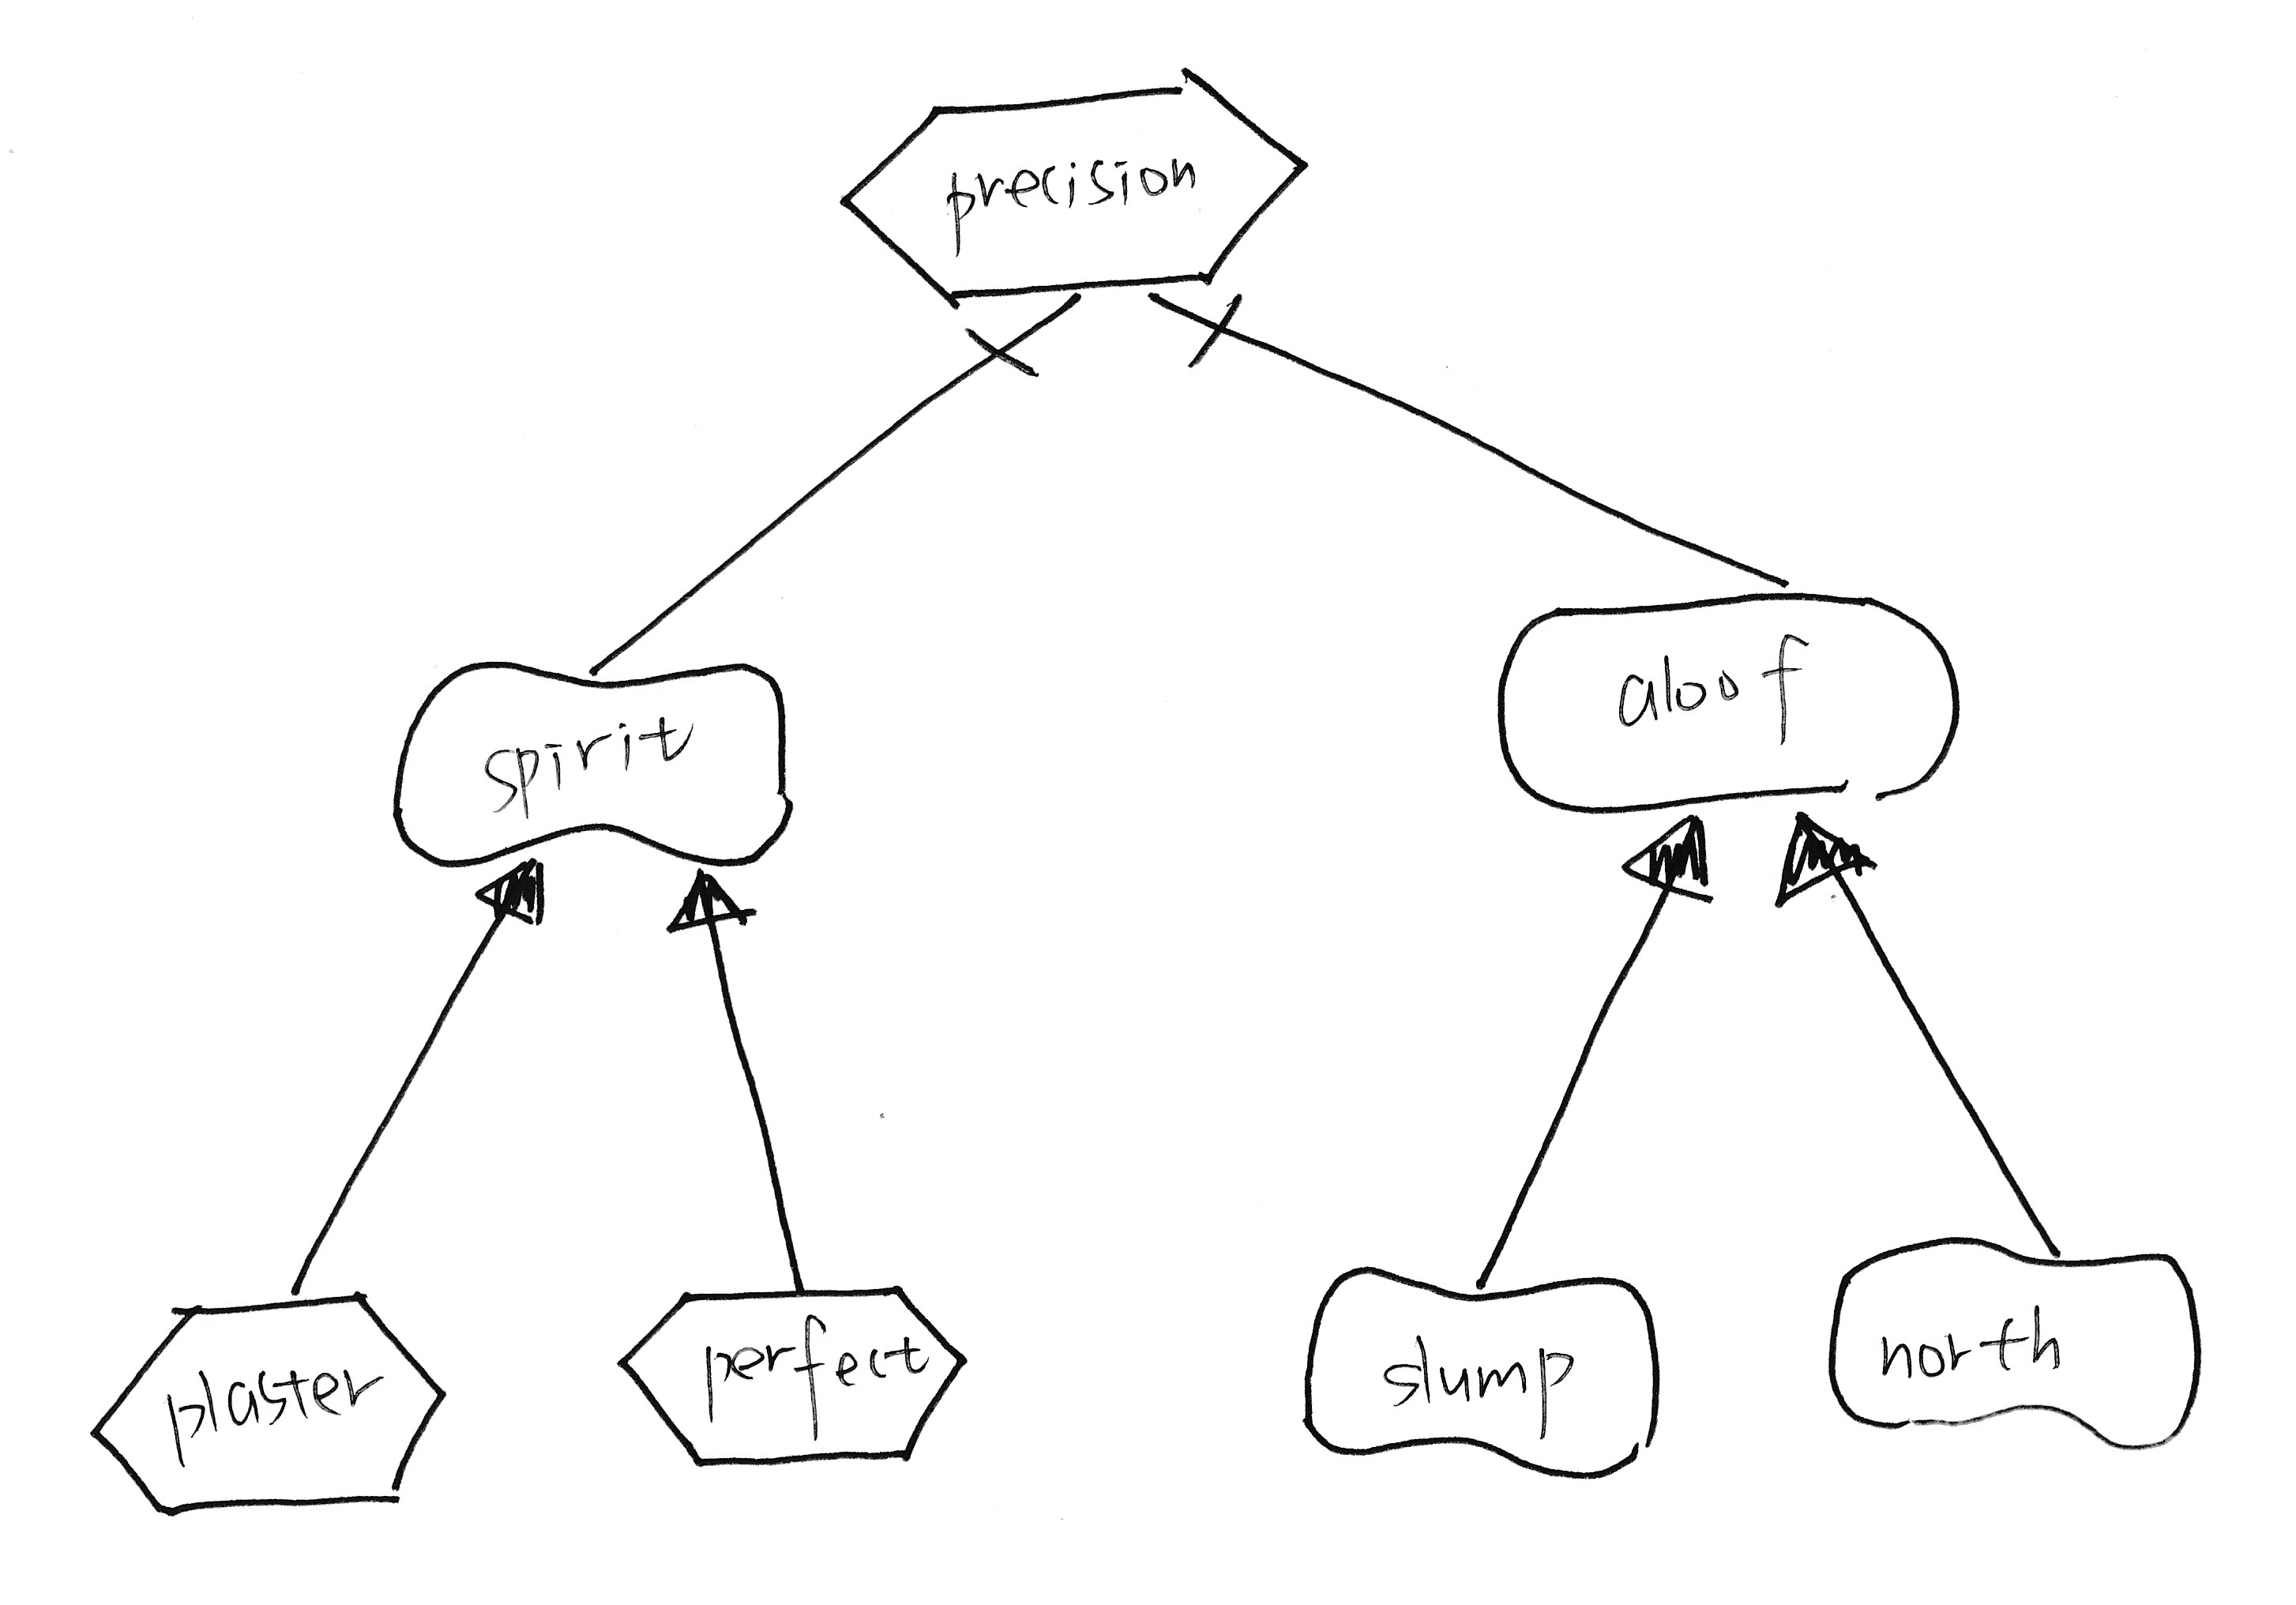and: (951, 276, 1096, 391), (1127, 276, 1254, 373)
goal: (1473, 572, 1992, 841)
or: (1762, 799, 1888, 919), (1609, 799, 1732, 911), (651, 853, 773, 949), (466, 846, 565, 942)
quality: (372, 644, 818, 890), (1284, 1240, 1687, 1499), (1811, 1219, 2219, 1471)
task: (818, 51, 1328, 318), (63, 1279, 459, 1535), (593, 1272, 979, 1479)
